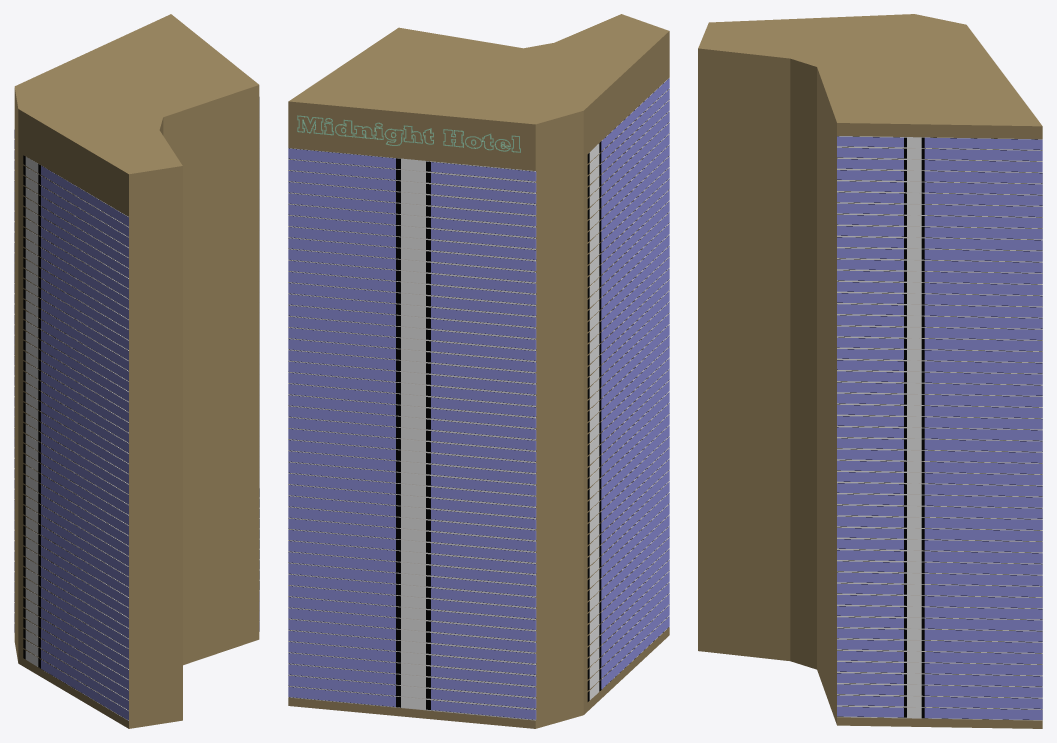
File: JunctionsideTower.fbx
The picture shows the model from 3 angles, left to right: view 1: azimuth 30°, elevation 25°; view 2: azimuth 150°, elevation 25°; view 3: azimuth 270°, elevation 25°; orthographic projection. The views are drawn at different scales.
Parts seen in each view (by area): view 1: JunctionsideTower, Window.002, Window; view 2: Window.001, JunctionsideTower, Window.002, Text; view 3: Window, JunctionsideTower.
Part boxes in pixels (x1,y1,x2,y2): JunctionsideTower: [14, 14, 259, 728]; Window.002: [14, 129, 128, 720]; Window: [259, 97, 259, 631]; Window.001: [288, 148, 535, 720]; JunctionsideTower: [288, 14, 669, 728]; Window.002: [535, 78, 669, 719]; Text: [297, 115, 520, 152]; Window: [837, 136, 1042, 720]; JunctionsideTower: [698, 14, 1042, 728].
Size of the model in its own units: 4397 by 10997 by 5700.
